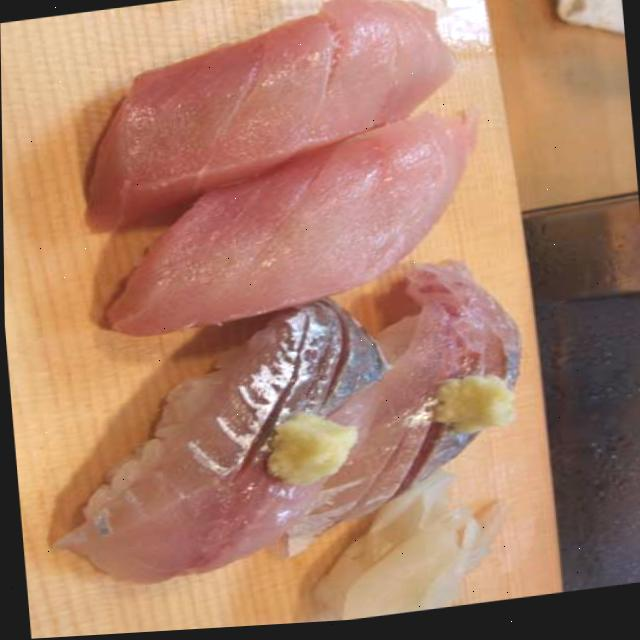寿司卷物: (19, 0, 533, 610)
